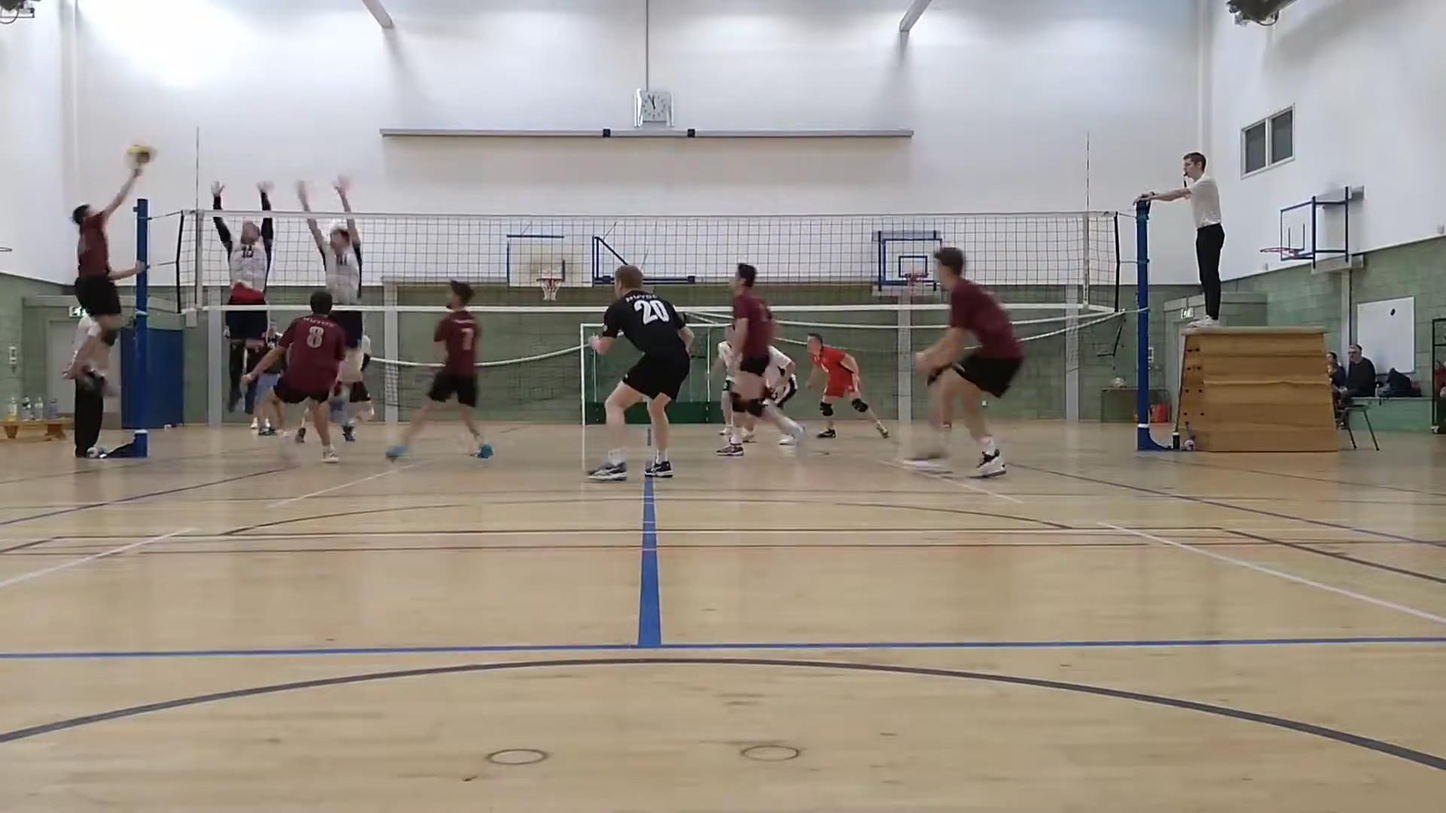attacco: (60, 162, 156, 394)
muro: (290, 164, 378, 434), (207, 165, 274, 423)
